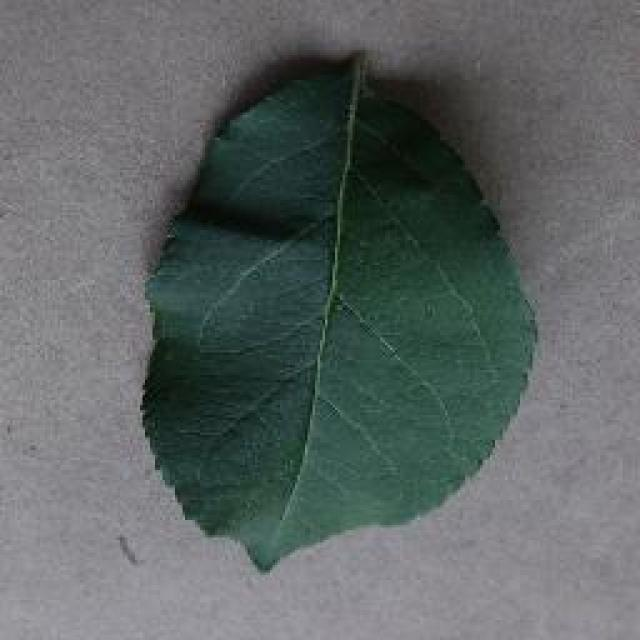apple healthy: (138, 50, 540, 572)
